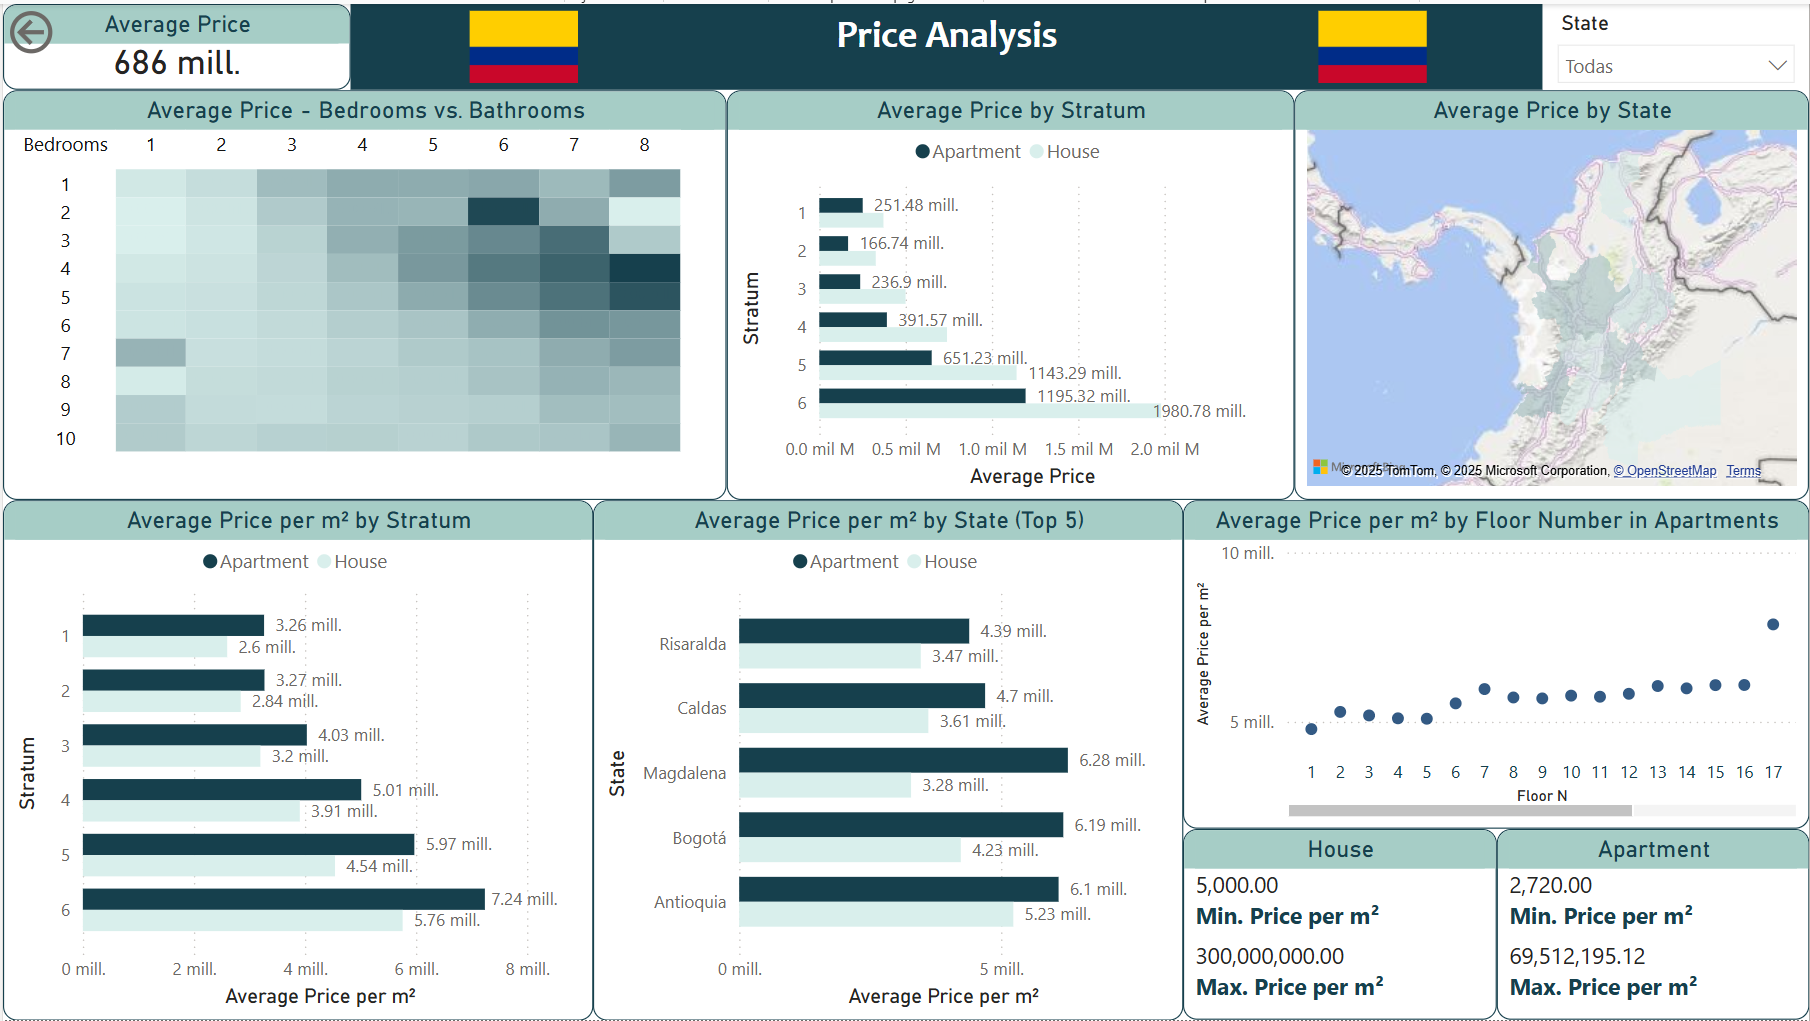

Layout of this report page (visuals, bound fields, positions):
{"tool":"powerbi","page":{"name":"Análisis de Precios","canvas":[1280,720],"ordinal":1},"visuals":[{"type":"slicer","fields":{"Values":["Props.Estado"]},"box":[1091.5,0,188.7,61.1],"z":0},{"type":"card","title":"Precio Promedio","fields":{"Values":["Avg(Props.Precio)"]},"box":[0,0,246.3,61.1],"z":1000},{"type":"textbox","box":[246.3,0,845.2,61.1],"z":2000},{"type":"clusteredBarChart","title":"Precio promedio por Estrato","fields":{"Category":["Props.Estrato"],"Y":["Avg(Props.Precio)"],"Series":["Props.Tipo Propiedad"]},"box":[513,61.1,402.2,290.6],"z":3000},{"type":"image","box":[901.9,0,137.3,61.1],"z":4000},{"type":"image","box":[300.3,0,137.3,61.1],"z":5000},{"type":"filledMap","title":"Precio Promedio por Estado","fields":{"Category":["Props.Estado"]},"box":[915.2,61.1,365,290.6],"z":6000},{"type":"actionButton","box":[0,0,100,40],"z":7000},{"type":"multiRowCard","title":"Casa","fields":{"Values":["Min(Props.Precio m2)","Max(Props.Precio m2)1"]},"box":[836.3,584.7,222.4,135.5],"z":8000},{"type":"clusteredBarChart","title":"Precio promedio por m² por Estrato","fields":{"Category":["Props.Estrato"],"Y":["Avg(Props.Precio m2)"],"Series":["Props.Tipo Propiedad"]},"box":[0,351.7,418.2,368.6],"z":9000},{"type":"clusteredBarChart","title":"Precio promedio por m² por Estado (Top 5)","fields":{"Category":["Props.Estado"],"Y":["Avg(Props.Precio m2)"],"Series":["Props.Tipo Propiedad"]},"box":[418.2,351.7,418.2,368.6],"z":10000},{"type":"scatterChart","title":"Precio promedio por m² por n° piso en Aptos","fields":{"Series":["Props.Tipo Propiedad"],"Y":["Avg(Props.Precio m2)"],"X":["Props.Piso N"]},"box":[836.3,351.7,443.9,233],"z":11000},{"type":"multiRowCard","title":"Apartamento","fields":{"Values":["Min(Props.Precio m2)","Max(Props.Precio m2)1"]},"box":[1058.7,584.7,221.5,135.5],"z":12000},{"type":"pivotTable","title":"Precio promedio - Habitaciones vs Baños","fields":{"Columns":["Props.Banos"],"Rows":["Props.Habitaciones"],"Values":["Avg(Props.Precio)"]},"box":[0,61.1,513,290.6],"z":13000}]}

Visuals, with their boxes in screenshot pixels (x1, y1, x2, y2), scaled from the page's 1280x720 canvas onto the 1810x1021 screenshot:
slicer - Props.Estado: <box>1543,0,1809,87</box>
"Precio Promedio" card: <box>0,0,348,87</box>
textbox: <box>348,0,1543,87</box>
"Precio promedio por Estrato" clusteredBarChart: <box>725,87,1294,499</box>
image: <box>1275,0,1469,87</box>
image: <box>425,0,619,87</box>
"Precio Promedio por Estado" filledMap: <box>1294,87,1809,499</box>
actionButton: <box>0,0,141,57</box>
"Casa" multiRowCard: <box>1183,829,1497,1020</box>
"Precio promedio por m² por Estrato" clusteredBarChart: <box>0,499,591,1020</box>
"Precio promedio por m² por Estado (Top 5)" clusteredBarChart: <box>591,499,1183,1020</box>
"Precio promedio por m² por n° piso en Aptos" scatterChart: <box>1183,499,1809,829</box>
"Apartamento" multiRowCard: <box>1497,829,1809,1020</box>
"Precio promedio - Habitaciones vs Baños" pivotTable: <box>0,87,725,499</box>
